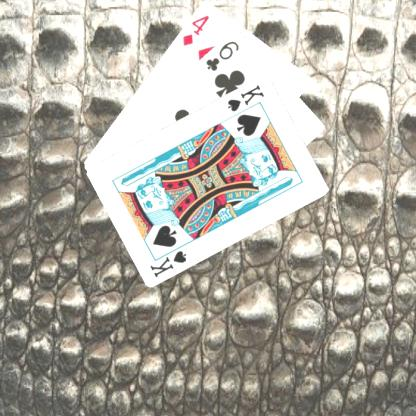4D: (180, 12, 210, 47)
6C: (203, 38, 240, 72)
KS: (148, 241, 188, 278), (224, 81, 266, 113)
